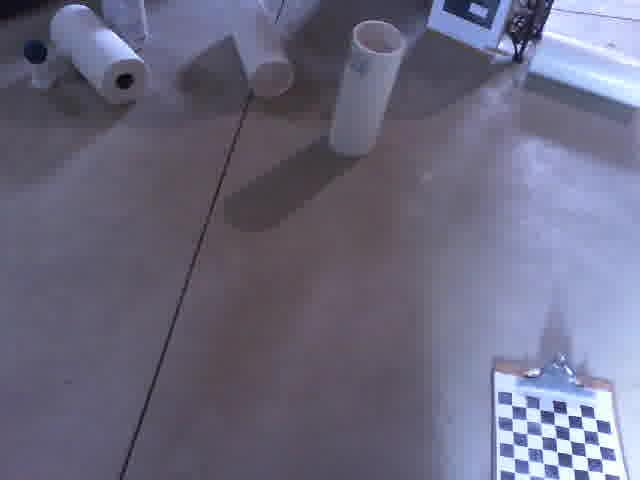coral: (329, 12, 407, 159), (526, 30, 640, 111), (222, 0, 299, 102)
